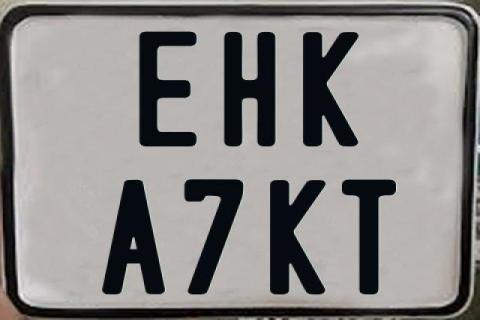0: (181, 178, 246, 294)
A: (102, 180, 166, 296)
E: (139, 29, 203, 145)
H: (222, 32, 279, 147)
K: (303, 30, 363, 148), (268, 180, 324, 298)
T: (340, 180, 399, 300)
